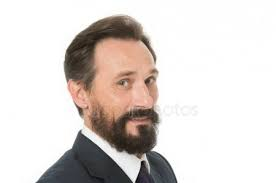white_male: (68, 41, 170, 156)
